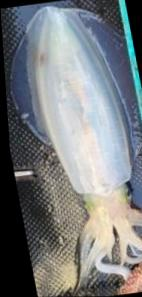Cephalopod: (9, 6, 142, 291)
